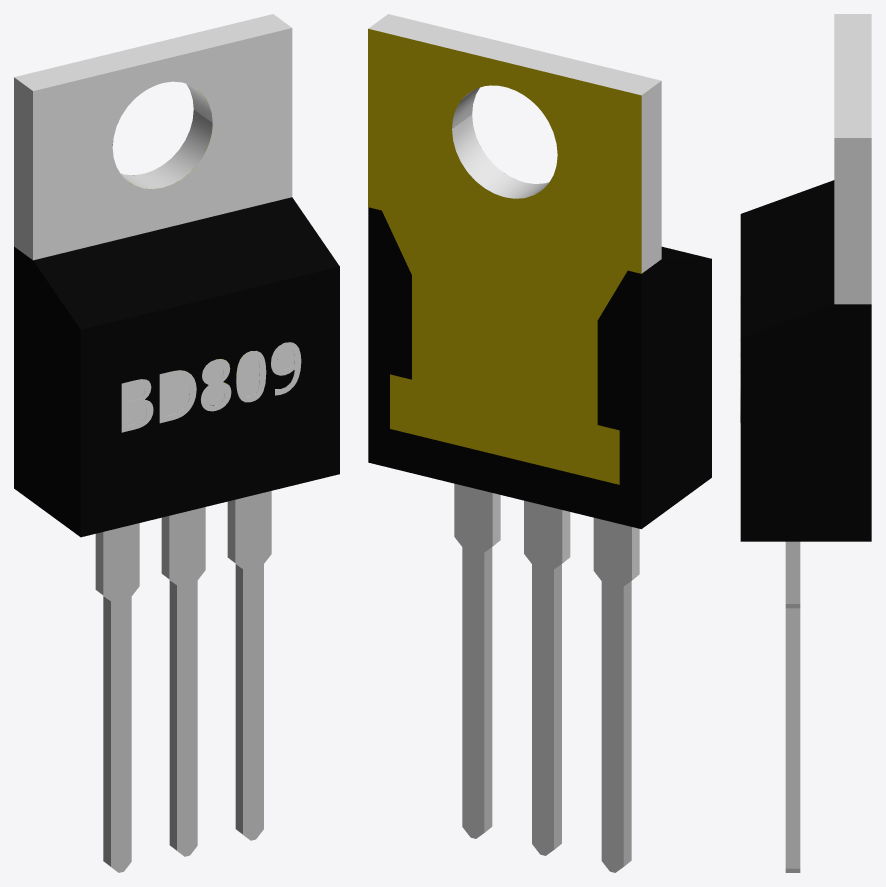
File: trnstr1.fbx
3 views of the same model, side by side, from view 1: azimuth 30°, elevation 25°; view 2: azimuth 150°, elevation 25°; view 3: azimuth 270°, elevation 25° (orthographic). The views are drawn at different scales.
Parts seen in each view (by area): view 1: User_Library_BD809_Transistors_NPN_TO_220_3_body139, User_Library_BD809_Transistors_NPN_TO_220_3_body144, User_Library_BD809_Transistors_NPN_TO_220_3_body140, User_Library_BD809_Transistors_NPN_TO_220_3_body141, User_Library_BD809_Transistors_NPN_TO_220_3_body136, User_Library_BD809_Transistors_NPN_TO_220_3_body138, User_Library_BD809_Transistors_NPN_TO_220_3_body137, User_Library_BD809_Transistors_NPN_TO_220_3_body149, User_Library_BD809_Transistors_NPN_TO_220_3_body148, User_Library_BD809_Transistors_NPN_TO_220_3_body1, User_Library_BD809_Transistors_NPN_TO_220_3_body80, User_Library_BD809_Transistors_NPN_TO_220_3_body71 (+7 smaller); view 2: User_Library_BD809_Transistors_NPN_TO_220_3_body152, User_Library_BD809_Transistors_NPN_TO_220_3_body146, User_Library_BD809_Transistors_NPN_TO_220_3_body141, User_Library_BD809_Transistors_NPN_TO_220_3_body57, User_Library_BD809_Transistors_NPN_TO_220_3_body56, User_Library_BD809_Transistors_NPN_TO_220_3_body55, User_Library_BD809_Transistors_NPN_TO_220_3_body149, User_Library_BD809_Transistors_NPN_TO_220_3_body148, User_Library_BD809_Transistors_NPN_TO_220_3_body1, User_Library_BD809_Transistors_NPN_TO_220_3_body89, User_Library_BD809_Transistors_NPN_TO_220_3_body80, User_Library_BD809_Transistors_NPN_TO_220_3_body71; view 3: User_Library_BD809_Transistors_NPN_TO_220_3_body143, User_Library_BD809_Transistors_NPN_TO_220_3_body140, User_Library_BD809_Transistors_NPN_TO_220_3_body150, User_Library_BD809_Transistors_NPN_TO_220_3_body149, User_Library_BD809_Transistors_NPN_TO_220_3_body84, User_Library_BD809_Transistors_NPN_TO_220_3_body86.
Boxes of the visible parts, x1,y1,x2,y2 form: User_Library_BD809_Transistors_NPN_TO_220_3_body139: (80, 266, 339, 537); User_Library_BD809_Transistors_NPN_TO_220_3_body144: (33, 28, 292, 260); User_Library_BD809_Transistors_NPN_TO_220_3_body140: (33, 197, 339, 329); User_Library_BD809_Transistors_NPN_TO_220_3_body141: (14, 246, 80, 536); User_Library_BD809_Transistors_NPN_TO_220_3_body136: (169, 507, 205, 856); User_Library_BD809_Transistors_NPN_TO_220_3_body138: (235, 491, 271, 840); User_Library_BD809_Transistors_NPN_TO_220_3_body137: (103, 523, 139, 872); User_Library_BD809_Transistors_NPN_TO_220_3_body149: (14, 14, 291, 90); User_Library_BD809_Transistors_NPN_TO_220_3_body148: (14, 77, 32, 259); User_Library_BD809_Transistors_NPN_TO_220_3_body1: (118, 109, 212, 189); User_Library_BD809_Transistors_NPN_TO_220_3_body80: (103, 596, 110, 866); User_Library_BD809_Transistors_NPN_TO_220_3_body71: (169, 580, 176, 850); User_Library_BD809_Transistors_NPN_TO_220_3_body152: (368, 28, 641, 484); User_Library_BD809_Transistors_NPN_TO_220_3_body146: (368, 207, 641, 528); User_Library_BD809_Transistors_NPN_TO_220_3_body141: (641, 258, 711, 528); User_Library_BD809_Transistors_NPN_TO_220_3_body57: (454, 483, 492, 838); User_Library_BD809_Transistors_NPN_TO_220_3_body56: (593, 517, 631, 872); User_Library_BD809_Transistors_NPN_TO_220_3_body55: (524, 500, 562, 855); User_Library_BD809_Transistors_NPN_TO_220_3_body149: (368, 14, 660, 95); User_Library_BD809_Transistors_NPN_TO_220_3_body148: (641, 81, 661, 273); User_Library_BD809_Transistors_NPN_TO_220_3_body1: (452, 115, 557, 198); User_Library_BD809_Transistors_NPN_TO_220_3_body89: (484, 547, 492, 831); User_Library_BD809_Transistors_NPN_TO_220_3_body80: (623, 581, 631, 865); User_Library_BD809_Transistors_NPN_TO_220_3_body71: (554, 564, 561, 848); User_Library_BD809_Transistors_NPN_TO_220_3_body143: (740, 304, 871, 541); User_Library_BD809_Transistors_NPN_TO_220_3_body140: (740, 180, 834, 337); User_Library_BD809_Transistors_NPN_TO_220_3_body150: (834, 138, 871, 304); User_Library_BD809_Transistors_NPN_TO_220_3_body149: (834, 14, 871, 137); User_Library_BD809_Transistors_NPN_TO_220_3_body84: (785, 608, 800, 868); User_Library_BD809_Transistors_NPN_TO_220_3_body86: (785, 541, 800, 603).
Size of the model in its own units: 0.997 by 2.86 by 0.4455.
